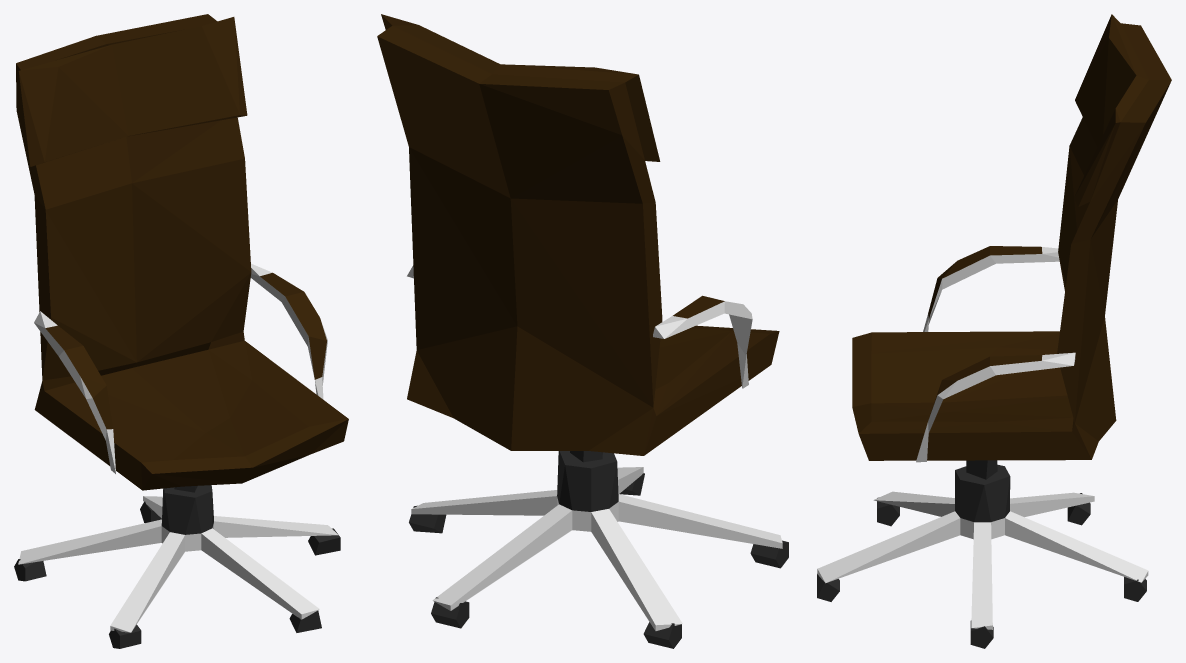
Rendered from siege_bureau.fbx.
The picture shows the model from 3 angles, left to right: view 1: azimuth 30°, elevation 25°; view 2: azimuth 150°, elevation 25°; view 3: azimuth 270°, elevation 25°; orthographic projection. The views are drawn at different scales.
Visible parts, largest first — view 1: fauteuil bureau; view 2: fauteuil bureau; view 3: fauteuil bureau.
Boxes of the visible parts, box(x1,y1,x2,y2) form: fauteuil bureau: box(14, 14, 348, 648); fauteuil bureau: box(377, 14, 788, 648); fauteuil bureau: box(817, 14, 1171, 648).
Bounding box in the file's own units: 67.53 × 117 × 74.3.
